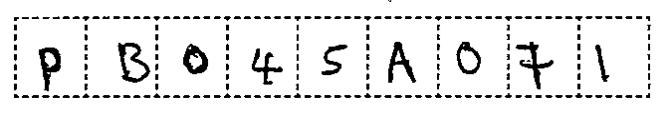0: (450, 36, 489, 80), (174, 38, 213, 76)
1: (584, 40, 624, 88)
4: (245, 44, 286, 88)
5: (316, 40, 351, 77)
7: (511, 38, 557, 92)
A: (376, 36, 422, 90)
B: (111, 37, 153, 88)
P: (31, 44, 65, 94)
